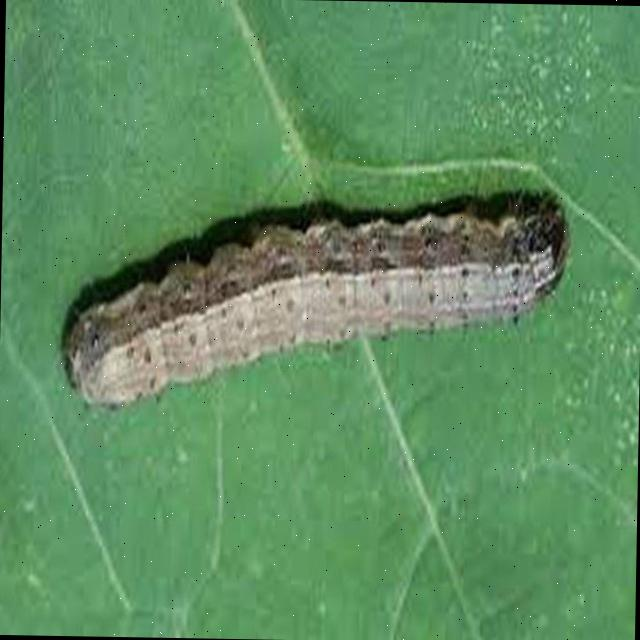worm: (62, 184, 574, 423)
